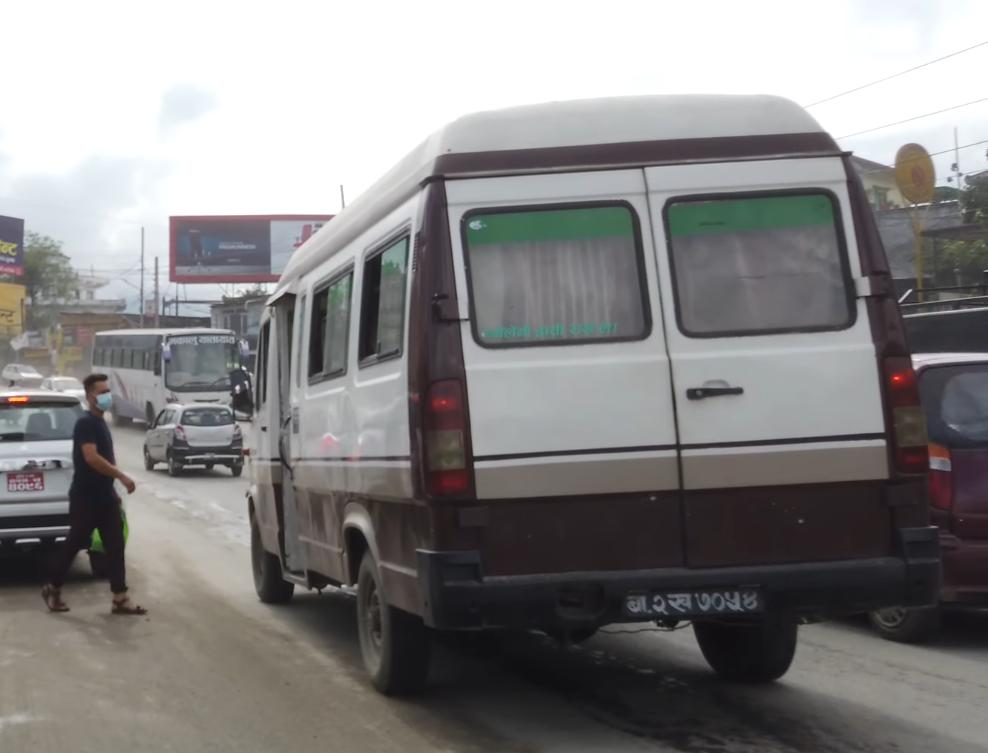bus: (86, 321, 250, 428)
micro_bus: (229, 78, 933, 713)
taxi: (140, 400, 249, 483)
